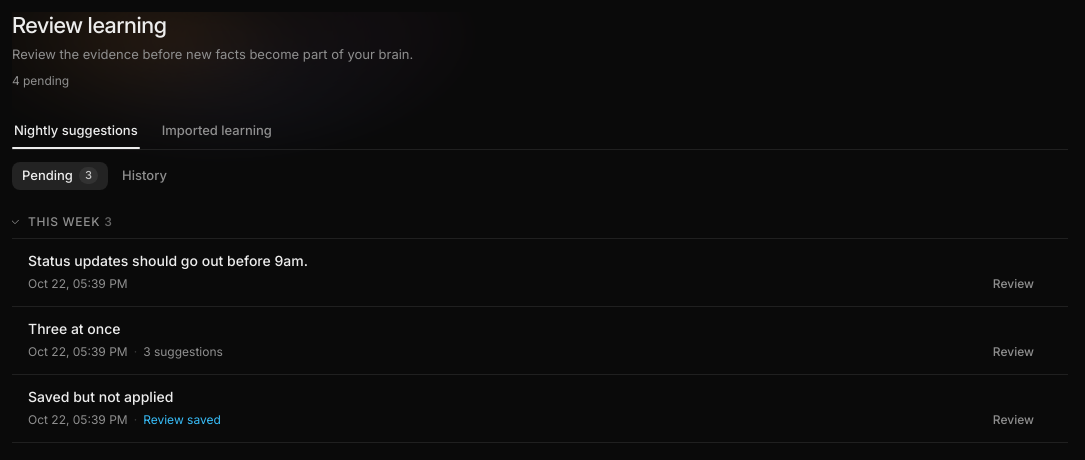
Test: keeps pending rows quiet: the title is the link, Review is the action, and the expected status and single counts stay out
Expected: the text "Review" is shown 3 times, [993, 276, 1034, 291]; [993, 344, 1034, 359]; [993, 412, 1034, 427]
Expected: the text "3 suggestions" is shown, [143, 342, 223, 362]
Click the button "History" at (144, 176), box [112, 162, 177, 190]
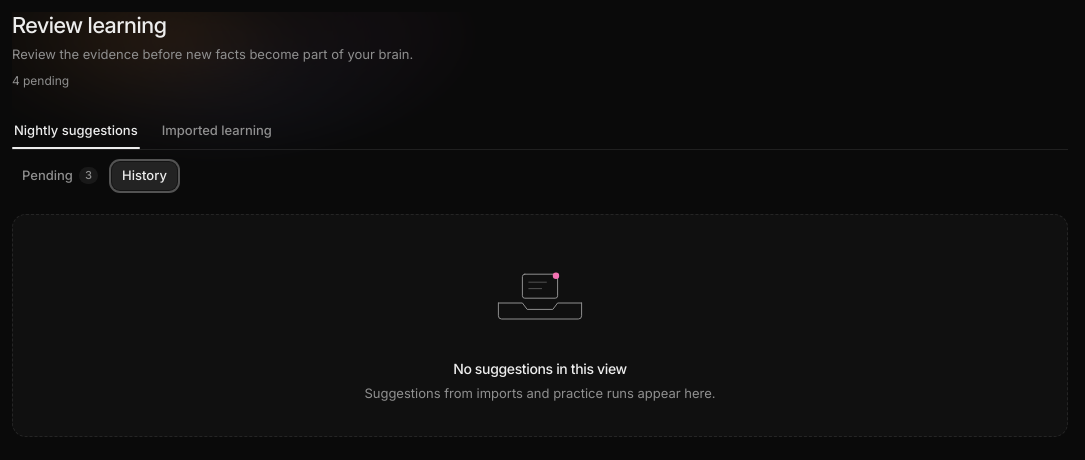
Now the heading "No suggestions in this view" is shown, box [453, 359, 627, 379]
